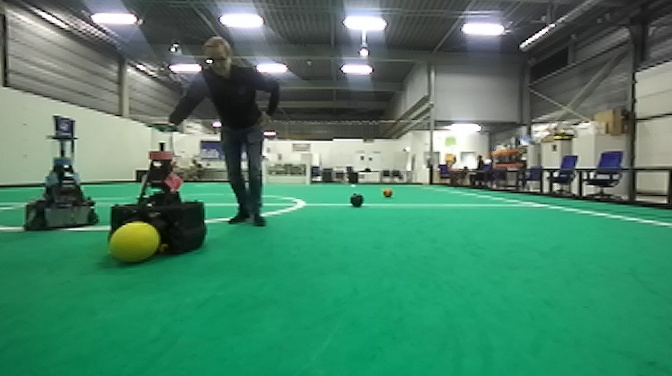ball: (108, 220, 161, 267), (349, 191, 366, 209), (381, 187, 395, 201)
goal: (261, 161, 312, 190)
goalpost: (262, 161, 270, 187), (305, 162, 311, 187)
human: (146, 34, 281, 230)
robot: (106, 120, 208, 260), (20, 112, 100, 234)
